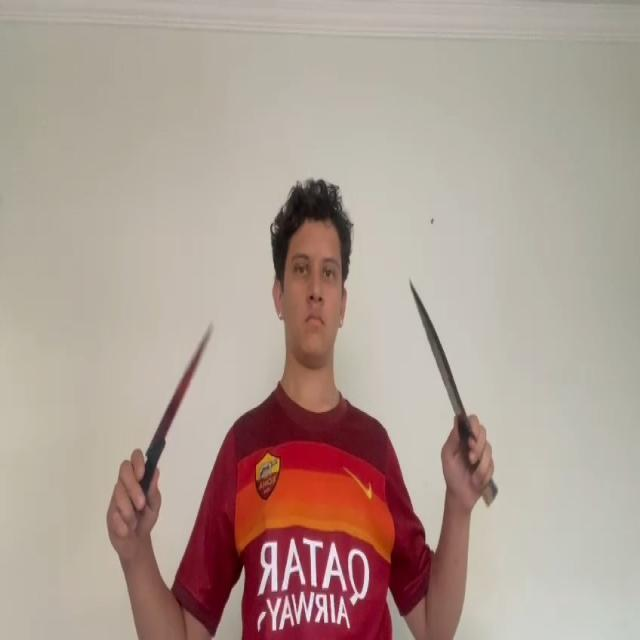knife: (411, 281, 472, 438), (150, 322, 212, 452)
